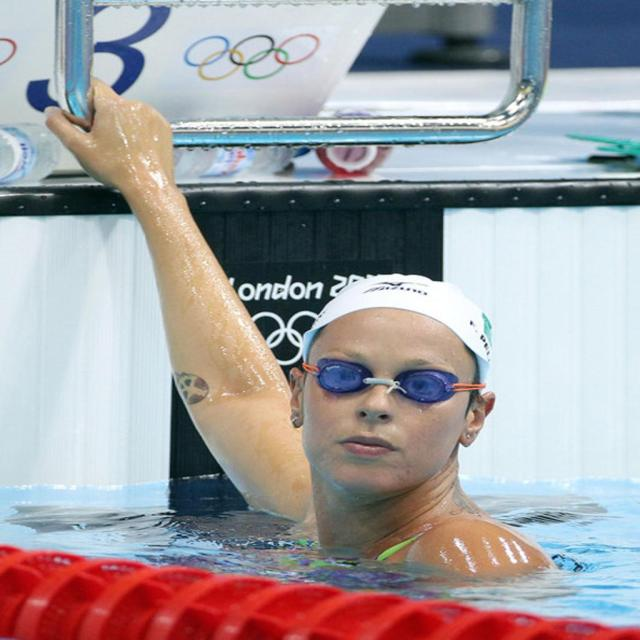Face: (297, 308, 488, 507)
